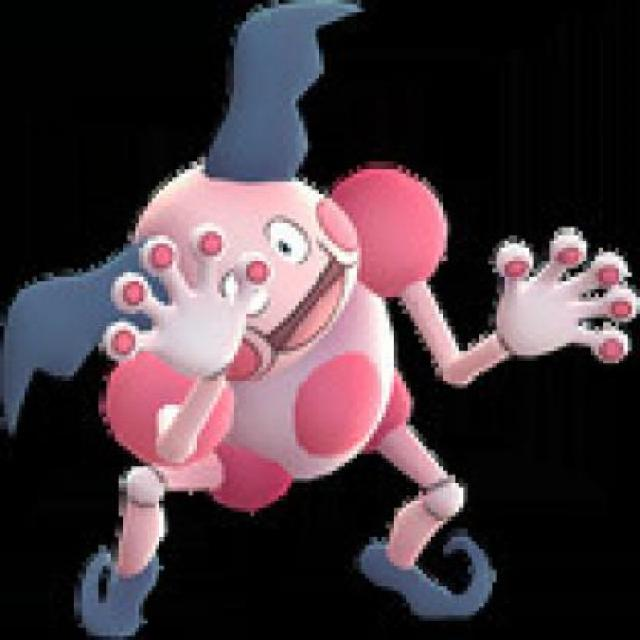MrMime: (96, 85, 443, 589)
